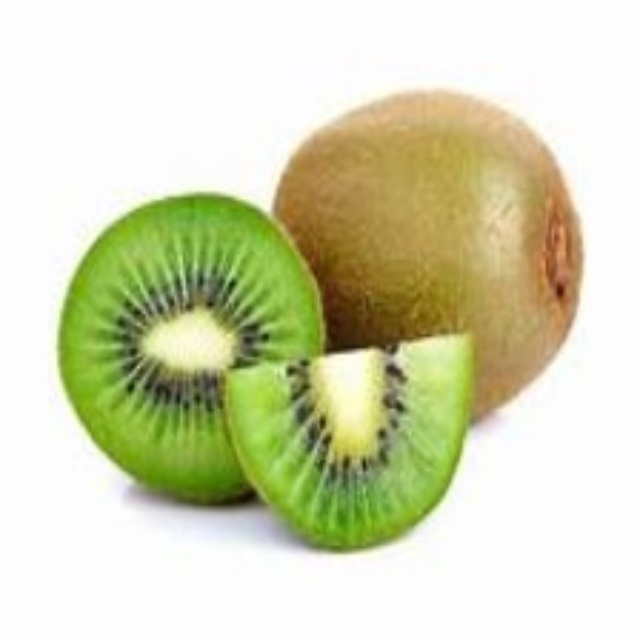kiwi: (277, 72, 567, 409), (59, 186, 314, 499), (215, 343, 502, 554)
